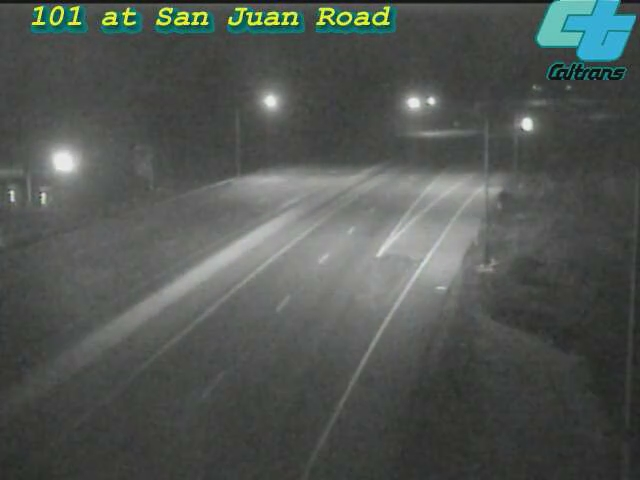vehicle: (502, 99, 552, 149)
